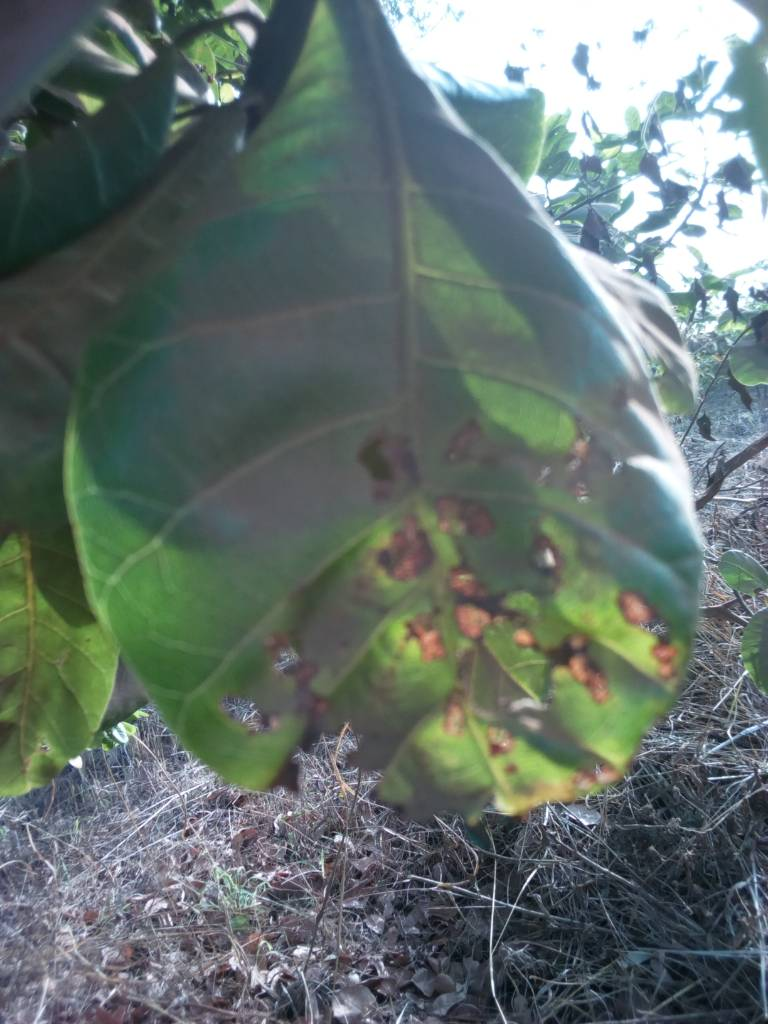Bactériose: (221, 264, 690, 803)
